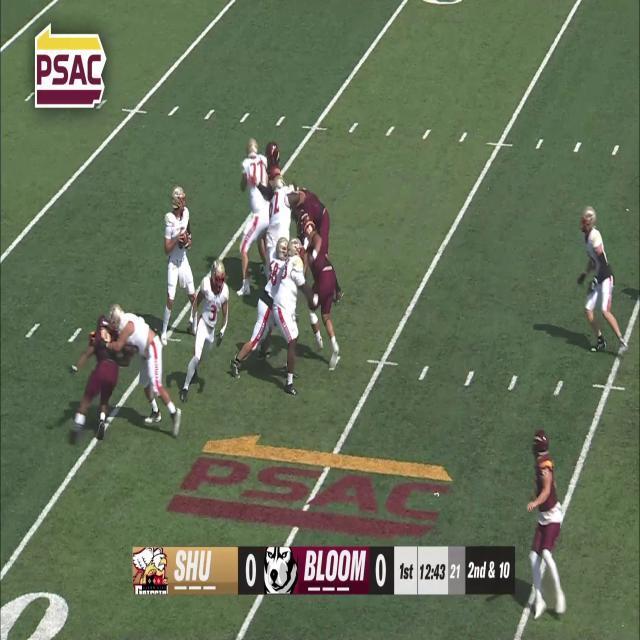football: (179, 226, 189, 245)
